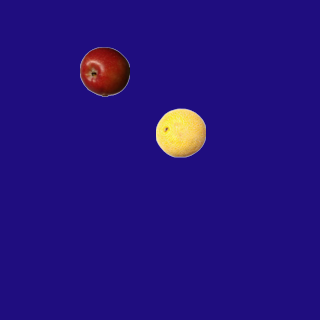Apple Braeburn: (79, 46, 129, 96)
Cantaloupe 1: (155, 107, 205, 157)
